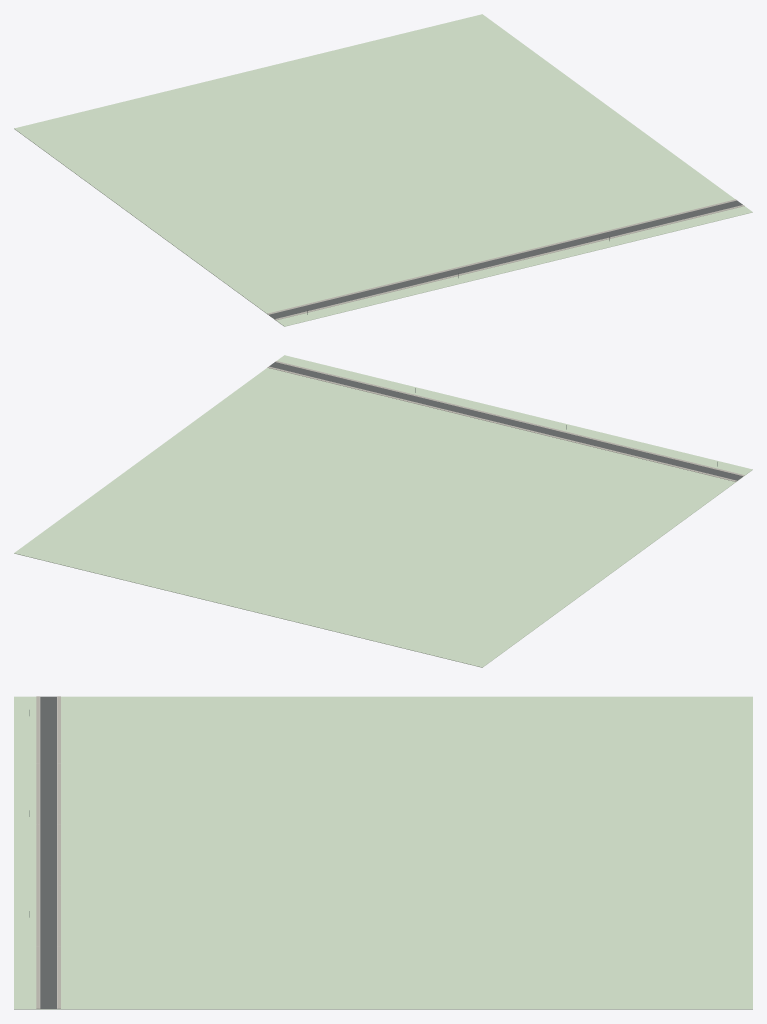
Rendered from chunk_3_5_low.glb.
3 renders of one model, top to bottom at view 1: azimuth 30°, elevation 25°; view 2: azimuth 150°, elevation 25°; view 3: azimuth 270°, elevation 25°, orthographic. The views are drawn at different scales.
Visible parts, largest first — view 1: city_grass, city_world_asphalt, city_world_sidewalk, city_curb; view 2: city_grass, city_world_asphalt, city_world_sidewalk, city_curb; view 3: city_grass, city_world_asphalt, city_world_sidewalk, city_curb.
Boxes of the visible parts, bbox=[...] form: city_grass: bbox=[14, 14, 752, 326]; city_world_asphalt: bbox=[269, 200, 742, 318]; city_world_sidewalk: bbox=[267, 199, 744, 320]; city_curb: bbox=[269, 200, 742, 319]; city_grass: bbox=[14, 355, 752, 667]; city_world_asphalt: bbox=[269, 362, 742, 480]; city_world_sidewalk: bbox=[267, 361, 744, 481]; city_curb: bbox=[271, 362, 743, 480]; city_grass: bbox=[14, 696, 752, 1009]; city_world_asphalt: bbox=[40, 696, 56, 1008]; city_world_sidewalk: bbox=[36, 696, 60, 1008]; city_curb: bbox=[36, 696, 60, 1008].
Bounding box in the file's own units: 512 × 5.42 × 512.
